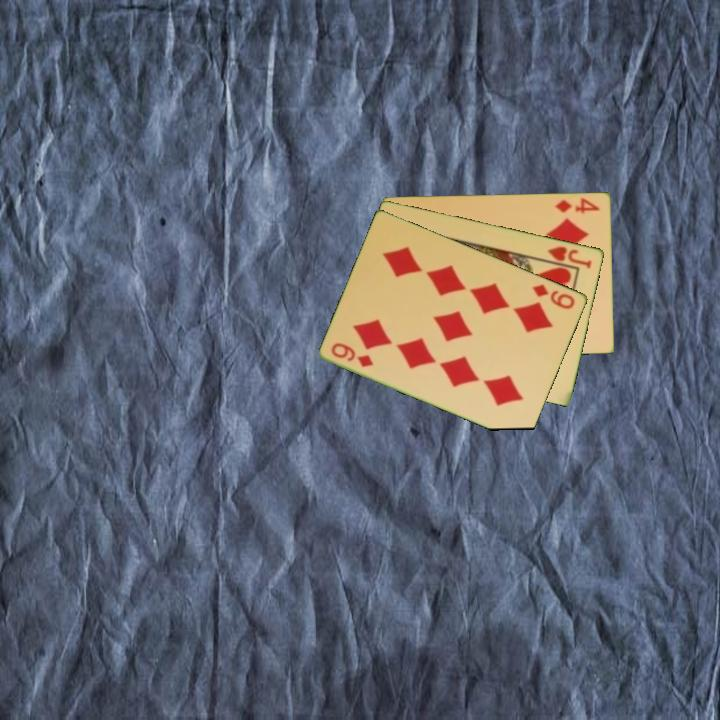4d: (552, 194, 602, 216)
9d: (529, 280, 578, 312), (328, 339, 377, 370)
Jh: (539, 242, 595, 271)
